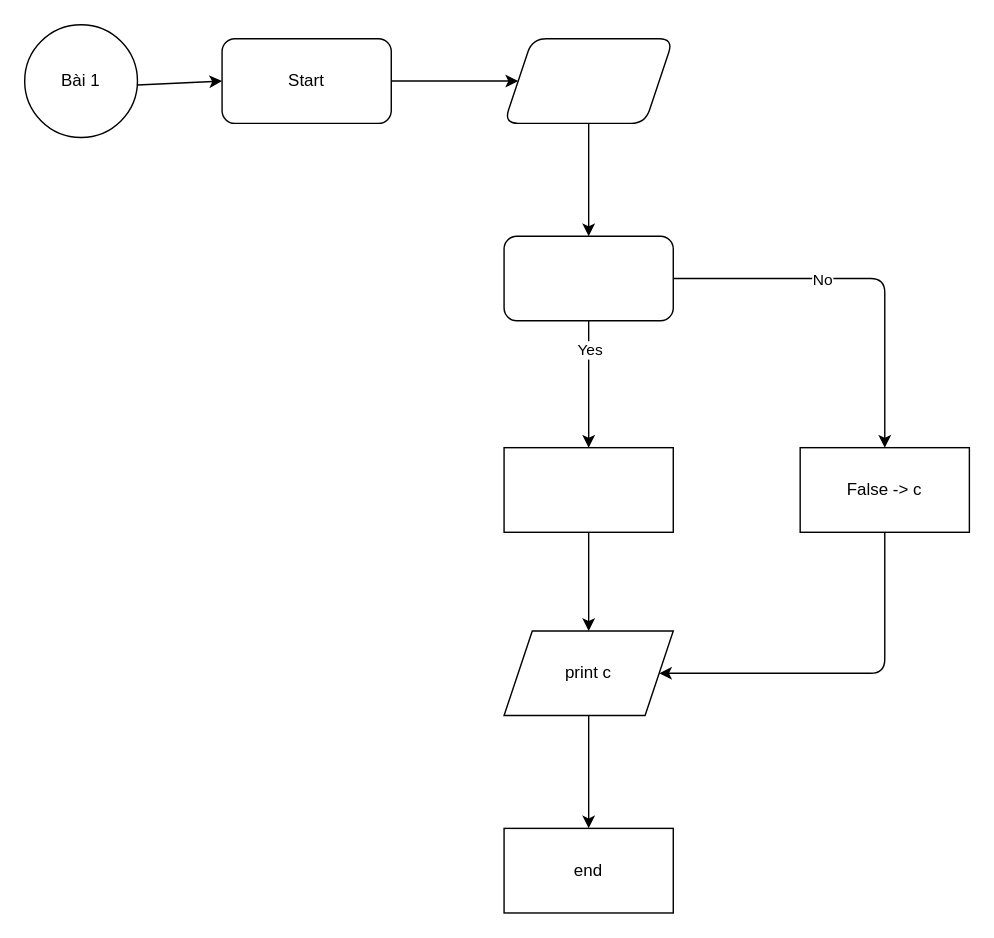
Image size: 994x938. Some labels were removed from this diagram. The shapes that lost their labels are listed below. From the top down, each one's centre as x and y in pixels, then its label:
the point at 588,80: Input a,b
the point at 588,278: a:b
the point at 588,489: True -> c
